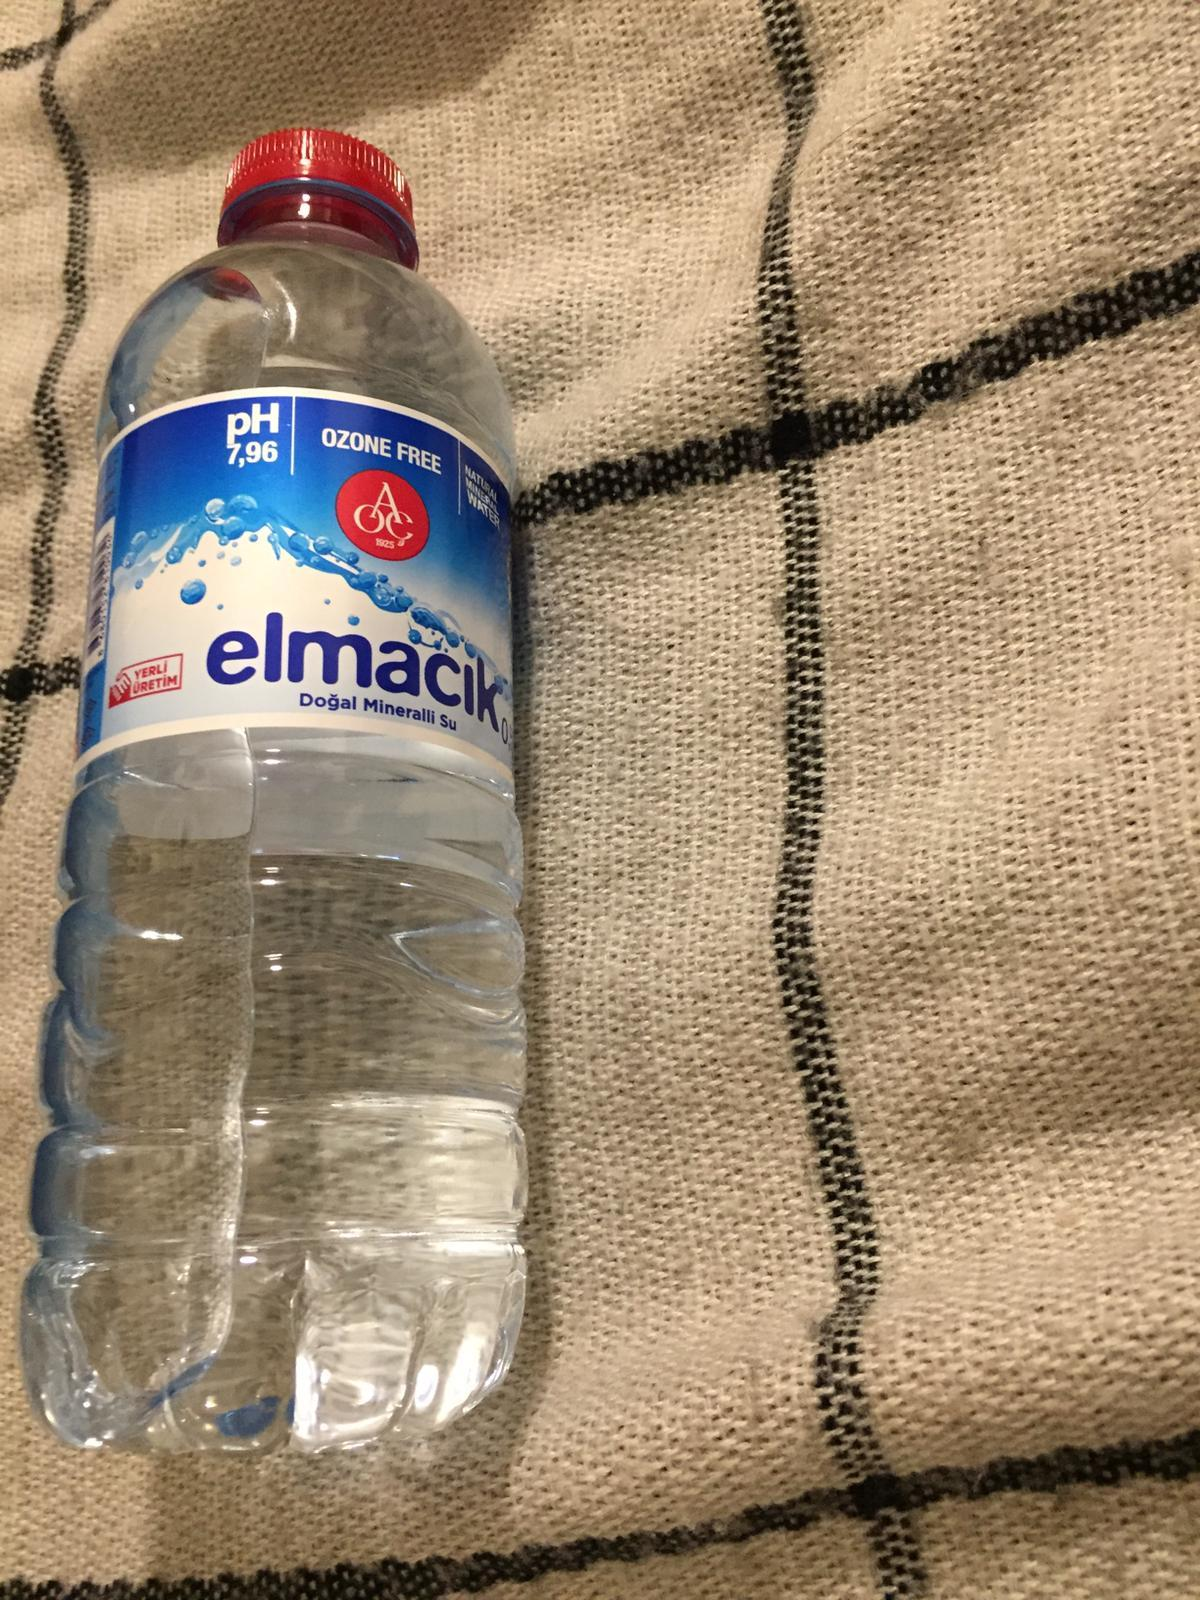bottle: (24, 123, 546, 1444)
